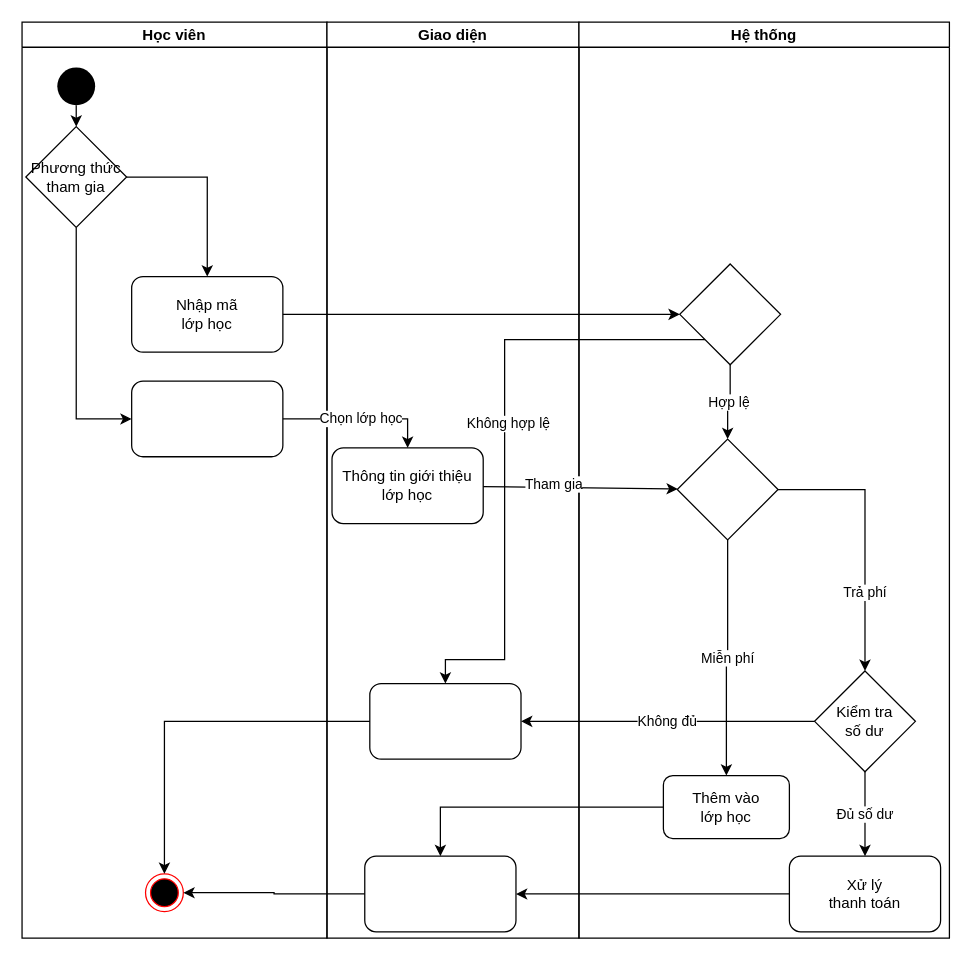
Some shapes in this 971 by 960 pixel diagram are drawn without their labels. The centre of each missing label's shape, as x and y in pixels:
"Danh sách lớp học" goes at point (206, 418).
"Kiểm tra học phí" goes at point (727, 489).
"Kiểm tra mã lớp" goes at point (730, 314).
"Tham gia thành công" goes at point (440, 893).
"Thông báo lỗi" goes at point (445, 720).
